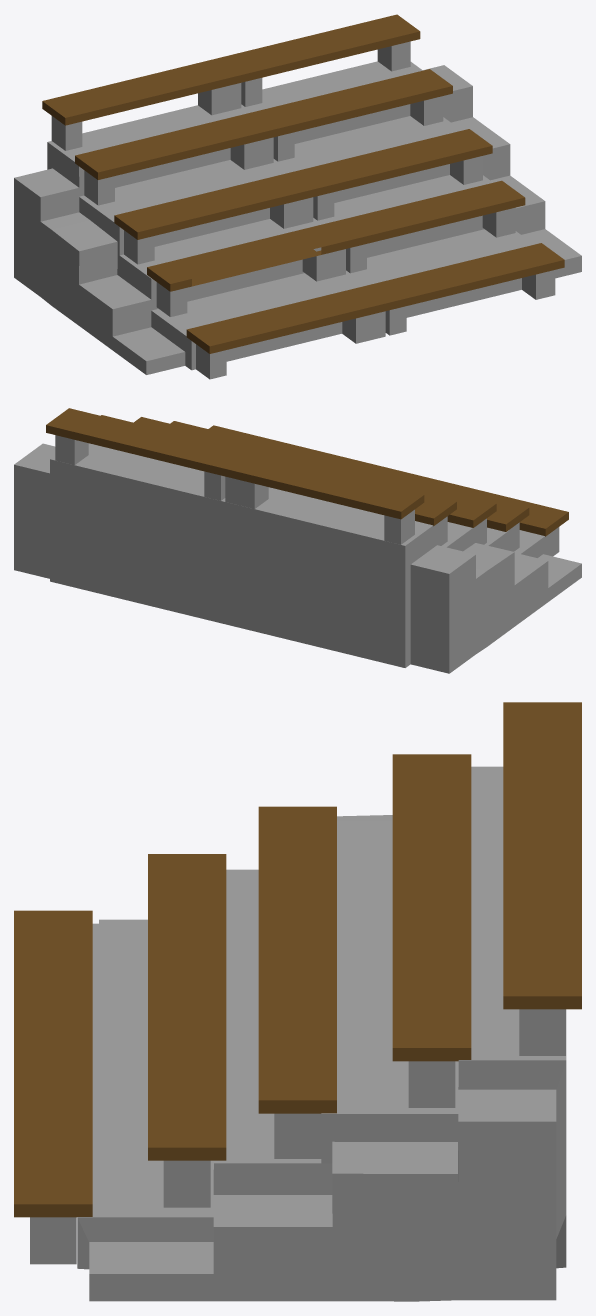
File: Gradas.fbx
3 views of the same model, one above another, from view 1: azimuth 30°, elevation 25°; view 2: azimuth 150°, elevation 25°; view 3: azimuth 270°, elevation 25° (orthographic). The views are drawn at different scales.
Visible parts, largest first — view 1: Gradas; view 2: Gradas; view 3: Gradas.
Part boxes in pixels (box(x1,y1,x2,y2)): Gradas: box(14, 14, 581, 379); Gradas: box(14, 408, 581, 673); Gradas: box(14, 702, 581, 1301).
Size of the model in its own units: 1832 by 651 by 1229.
